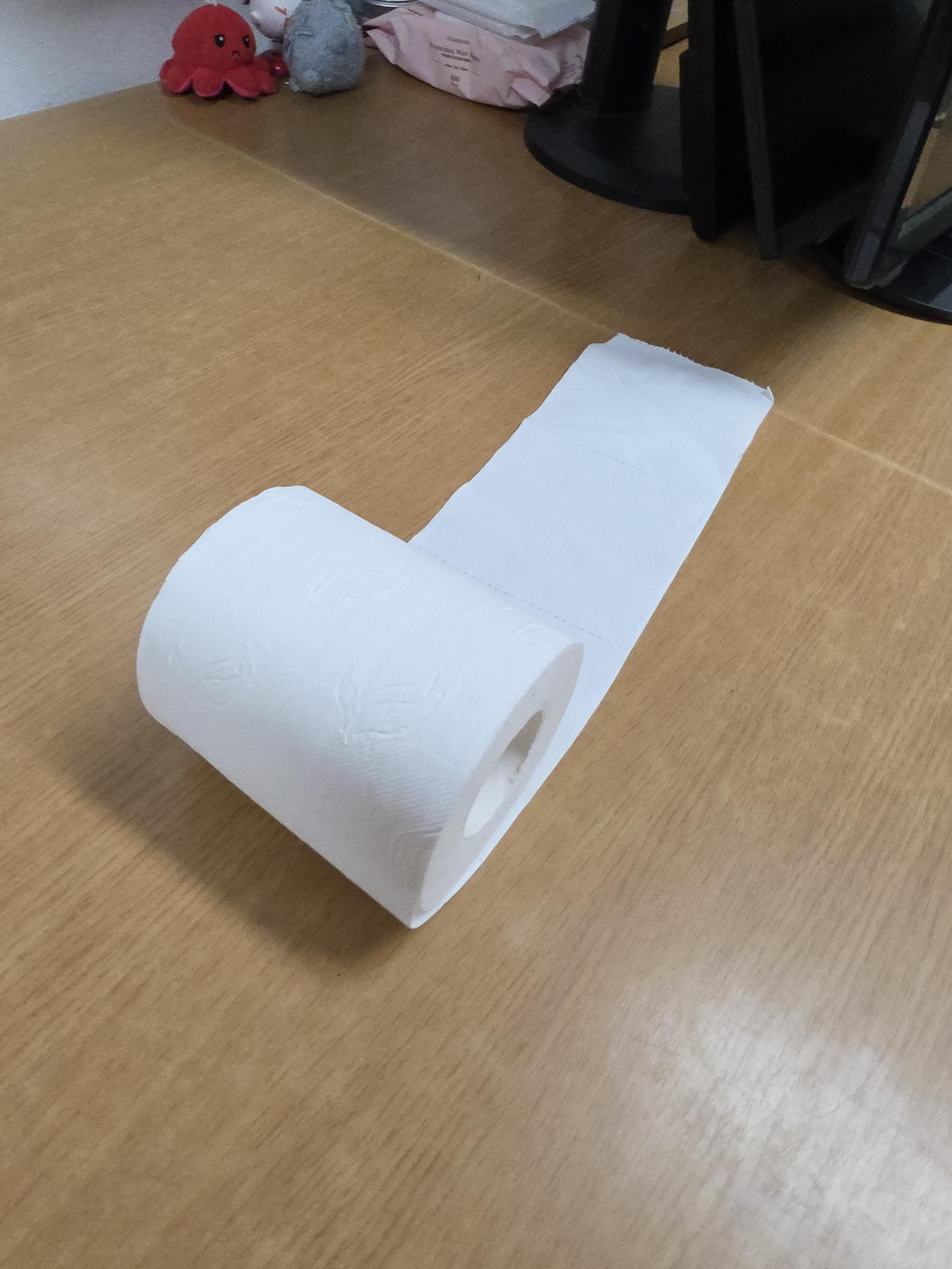tissue: (136, 332, 775, 929)
